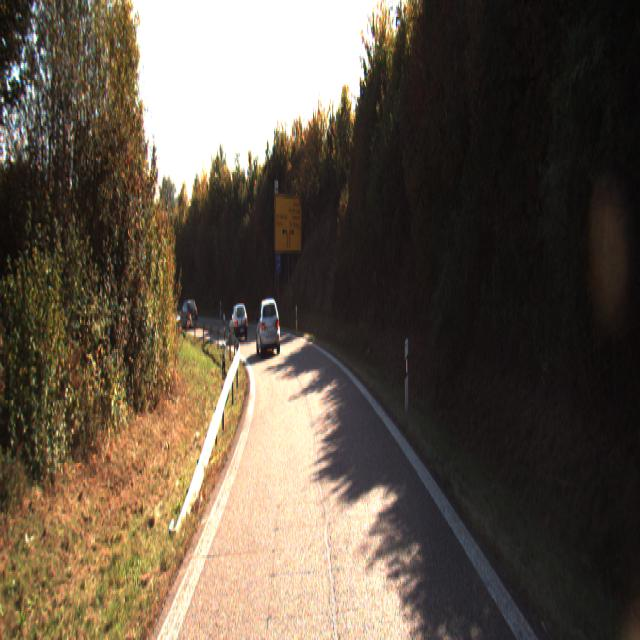Car: (256, 296, 280, 356), (230, 303, 250, 340), (180, 300, 199, 326)
